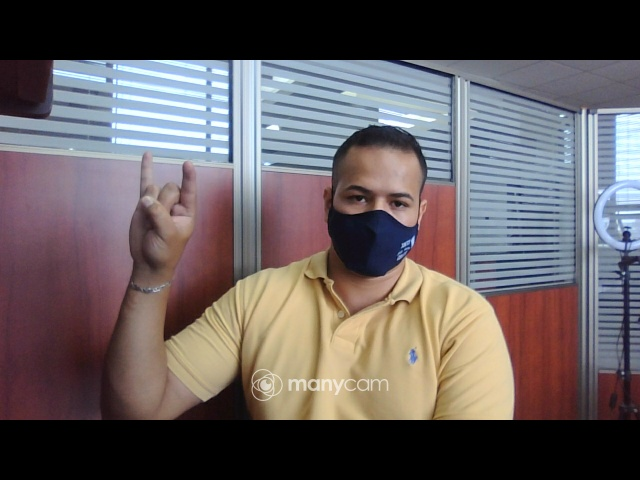I Love You: (128, 150, 200, 276)
